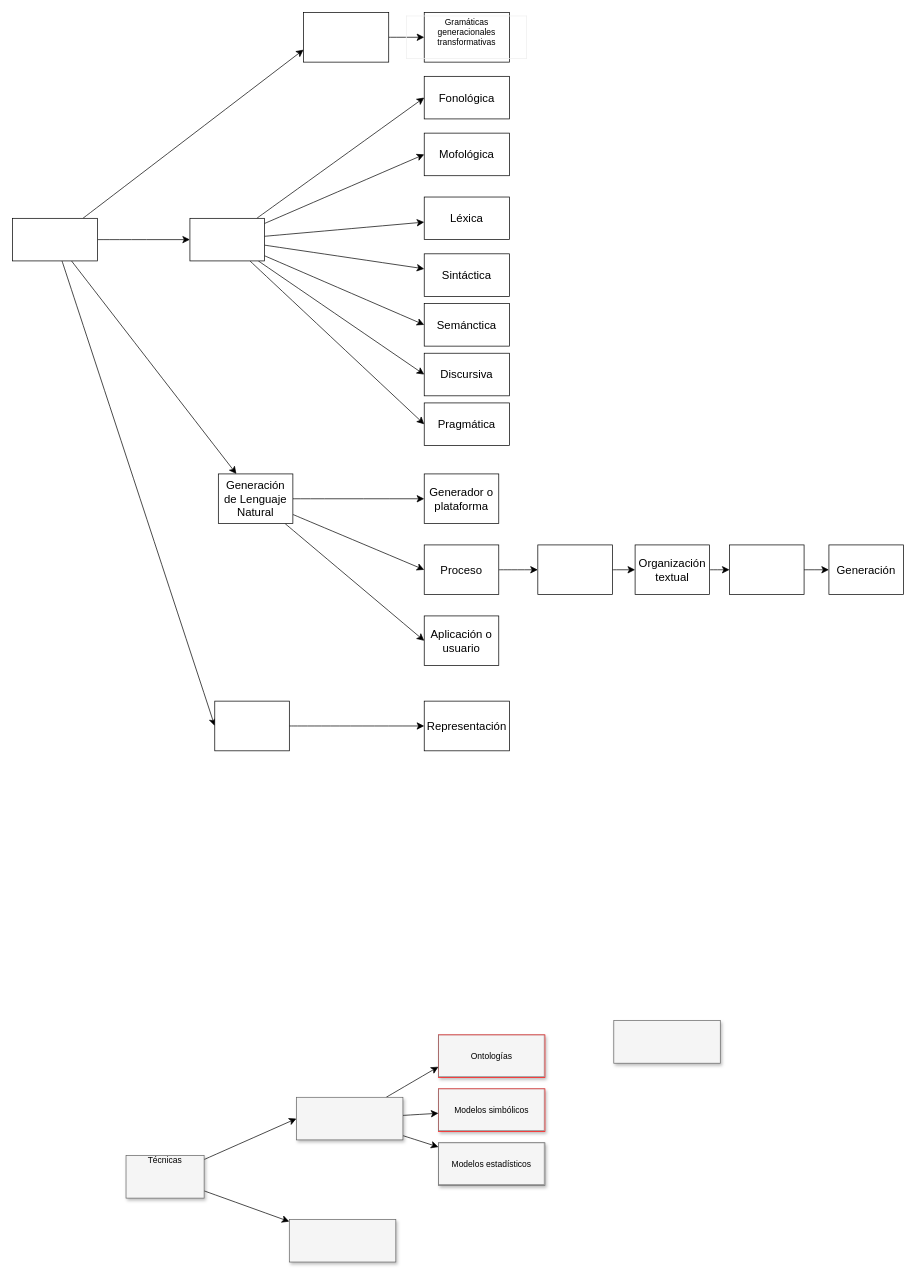
Some shapes in this 916 by 1279 pixel diagram are drawn without their labels. Each missing label, with the centre of its shape:
Basadas en Redes Neuronales: pixel 343 1241
Comprensión del Lenguaje Natural: pixel 226 239
Conceptos: pixel 55 239
Lingüística Computacional y Teoría del Lenguaje: pixel 346 37
Pre Redes Neuronales: pixel 350 1119
Procesado del Lenguaje Natural: pixel 251 725
Recursos lingüisticos: pixel 766 569
Selección del contenido: pixel 574 569
Tareas: pixel 667 1042
